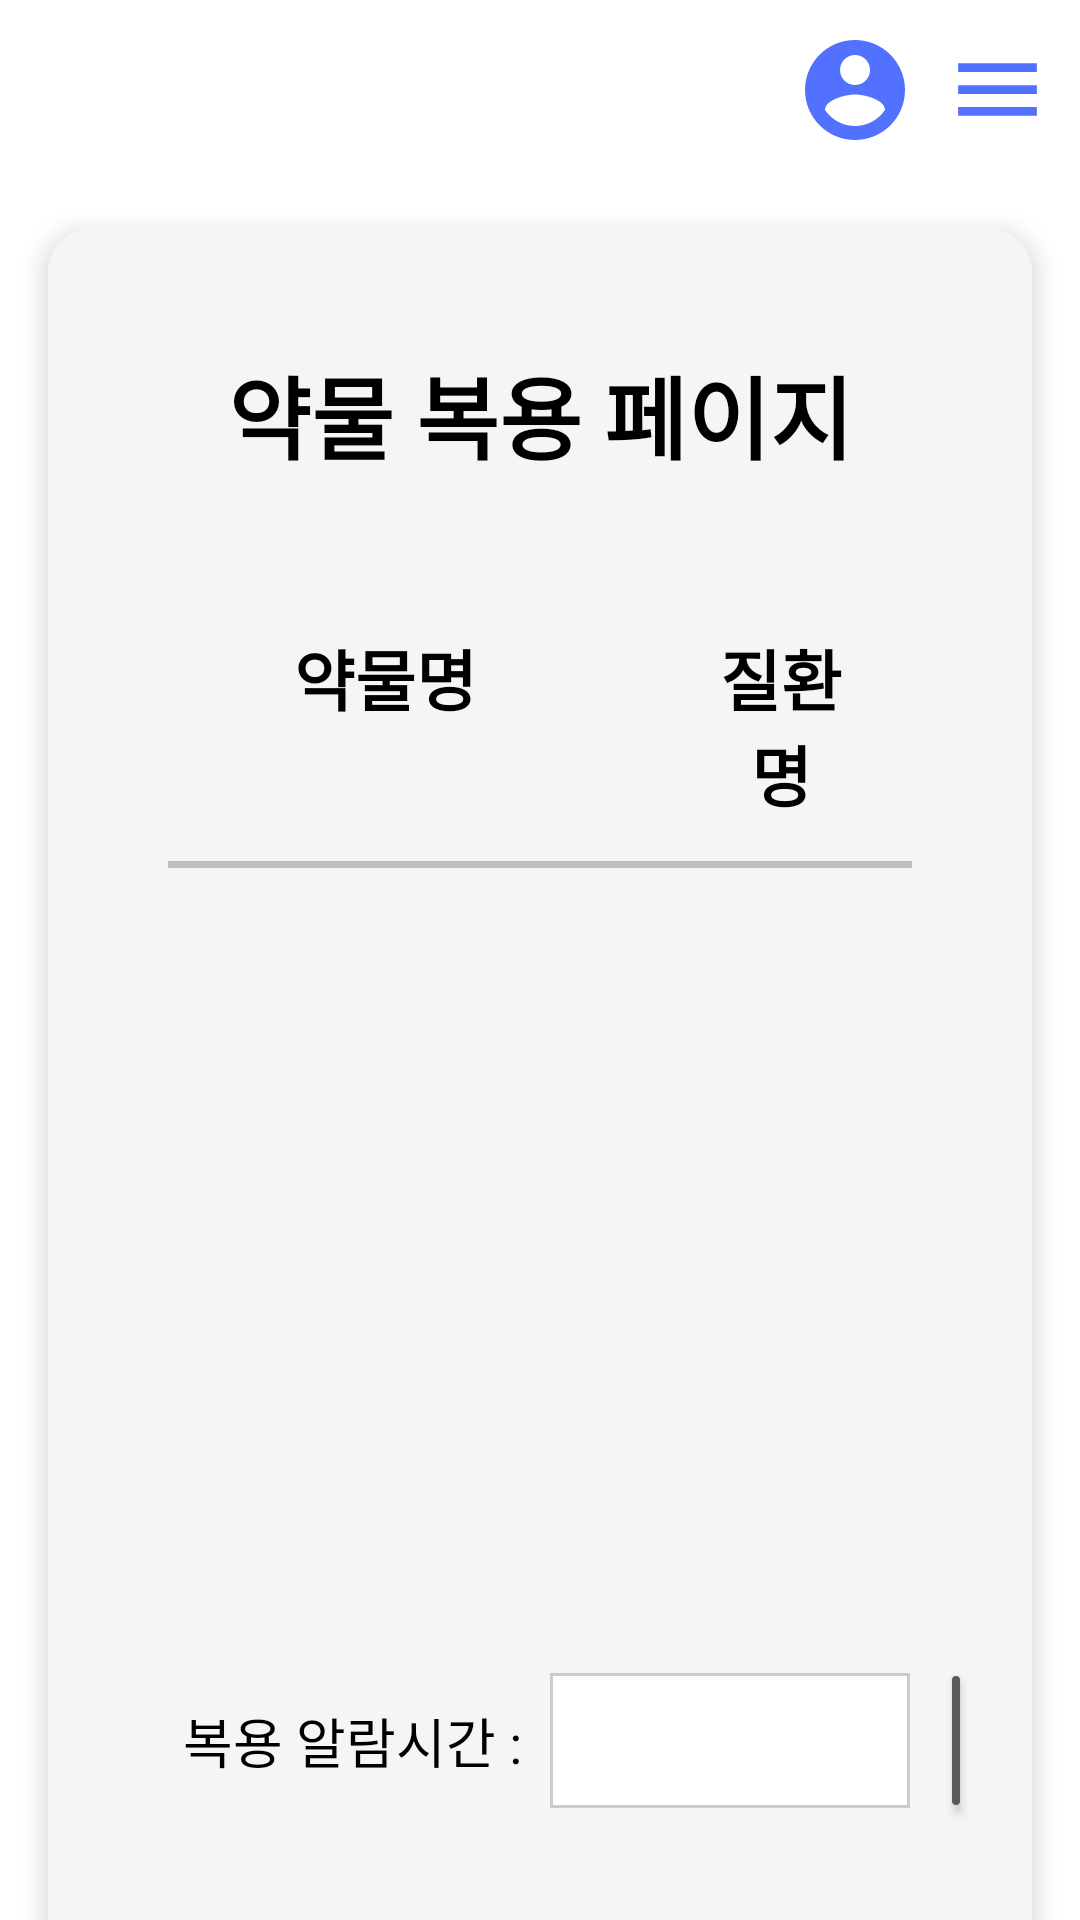

Icon bounding boxes for this 1080x1920 phone screenshot, format (x1, y1, x2, y2):
account circle: (805, 40, 905, 140)
menu: (958, 63, 1037, 116)
